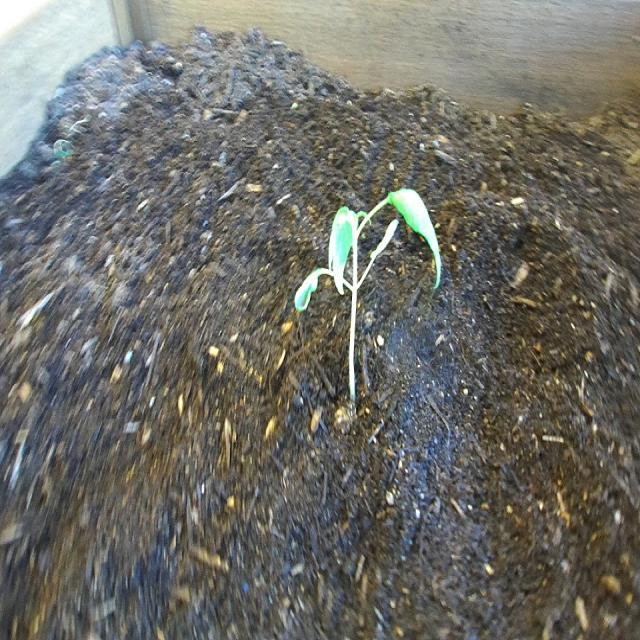Healthy: (288, 178, 446, 418)
